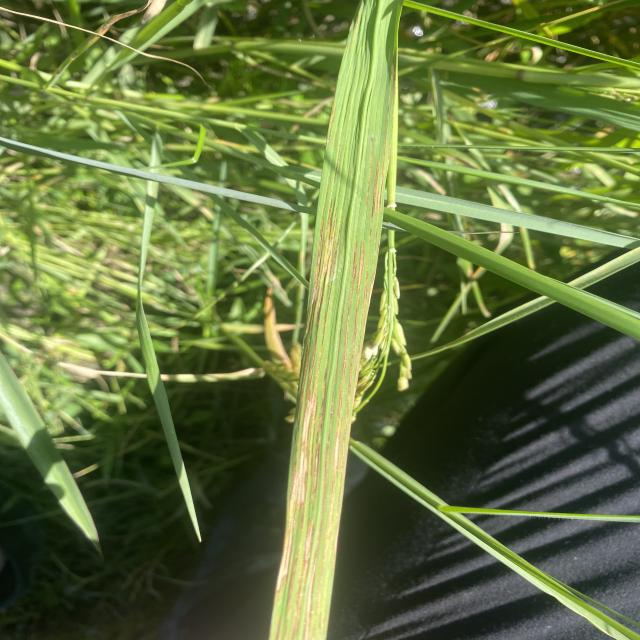Dom soc vi khuan: (329, 241, 365, 561), (328, 242, 357, 522), (313, 229, 341, 395), (292, 517, 316, 639), (378, 97, 390, 211), (369, 156, 380, 243), (322, 199, 333, 265), (366, 146, 373, 205)
